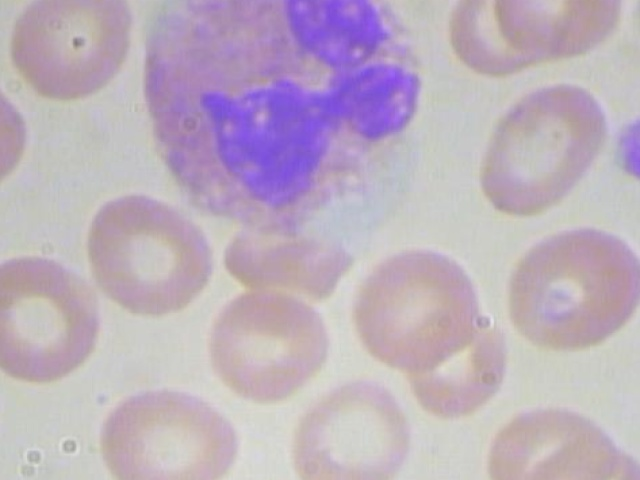Platelets: (609, 103, 640, 193)
RBC: (463, 76, 616, 217), (338, 233, 494, 371), (499, 223, 640, 361), (76, 182, 221, 316), (201, 281, 335, 403), (1, 0, 145, 111), (99, 370, 244, 480), (289, 372, 419, 480), (0, 250, 102, 384), (475, 394, 615, 480), (488, 0, 632, 66), (0, 343, 3, 465)
WBC: (120, 0, 435, 237)
